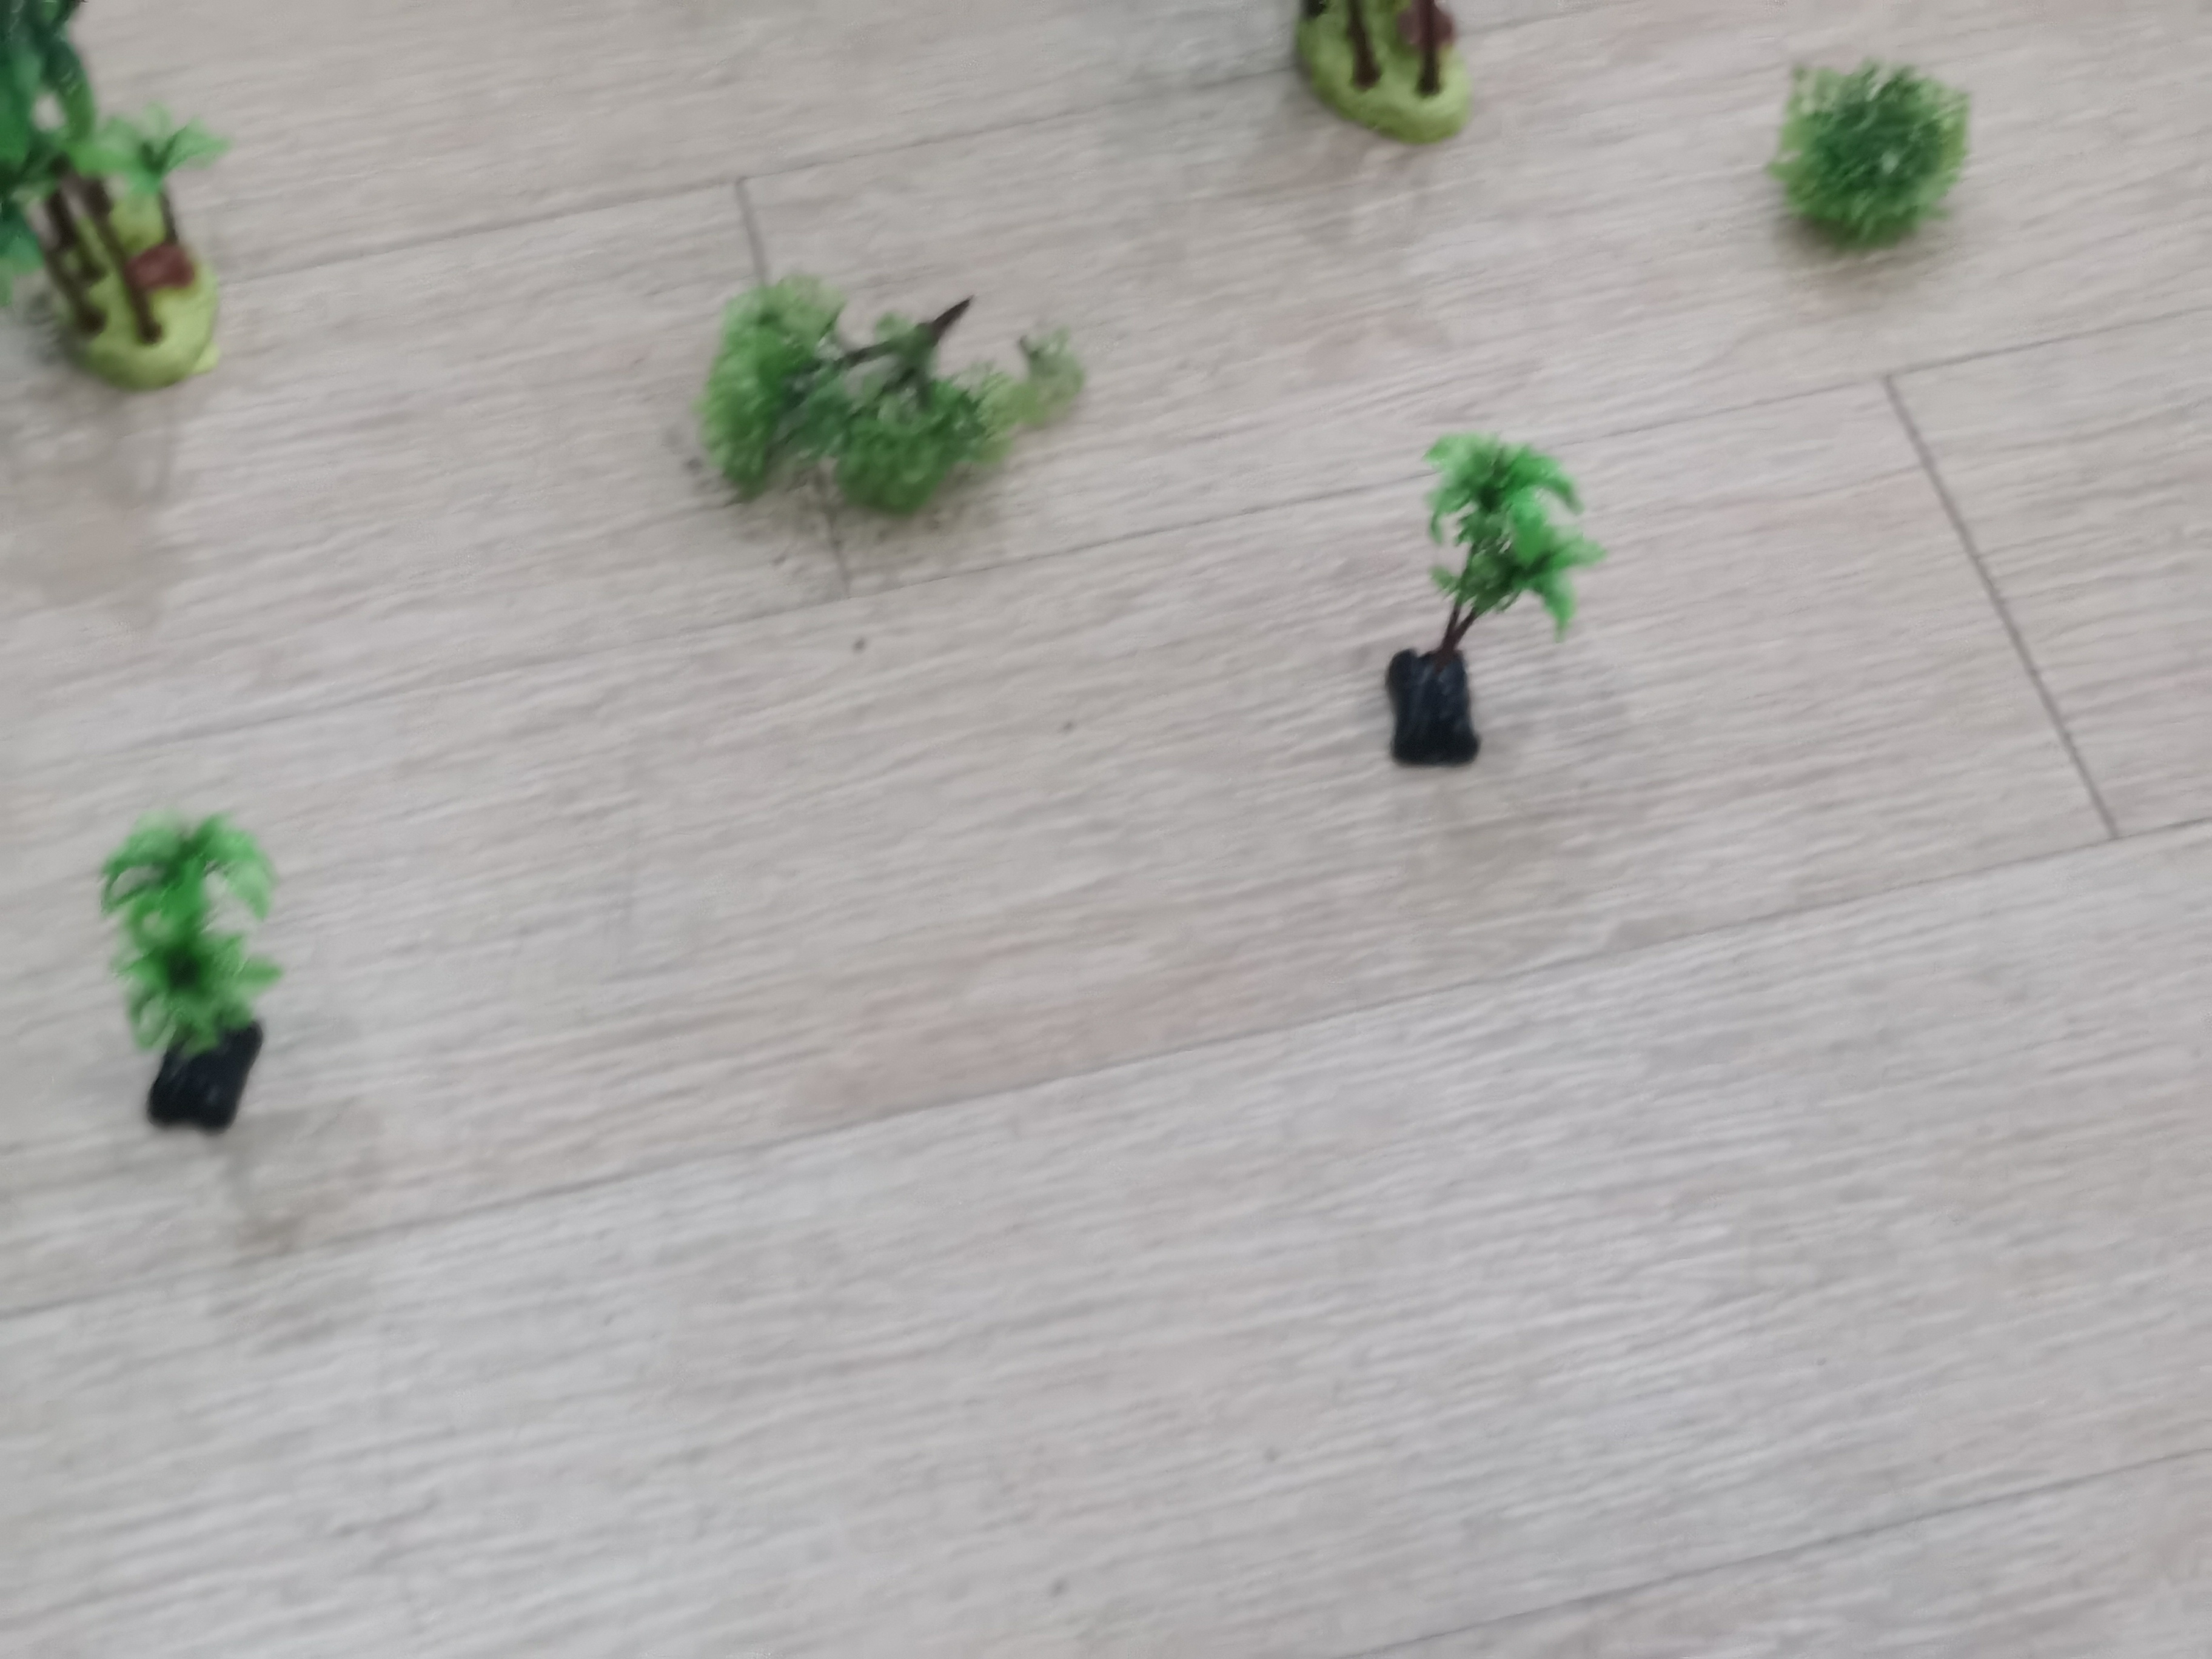corn: (1378, 436, 1587, 765), (7, 87, 225, 387), (85, 809, 277, 1134)
